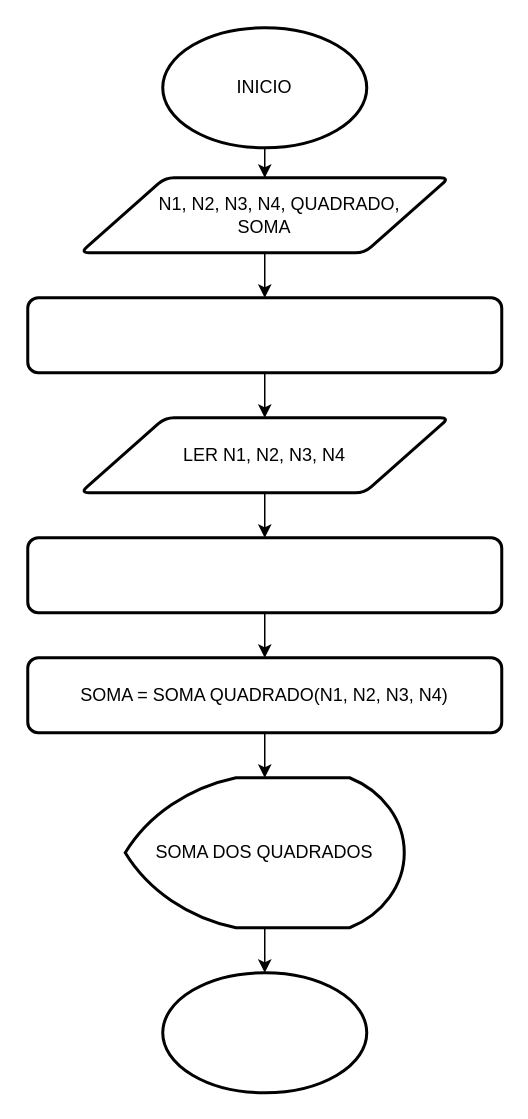
Some shapes in this 528 by 1119 pixel diagram are drawn without their labels. The shapes that lost their labels are listed below. From the top down, each one's centre as x and y in pixels, then its label:
At (x=264, y=335): "para(N = 0; N < 4; N + 1)".
At (x=264, y=575): "QUADRADO(N1, N2, N3, N4)".
At (x=264, y=1032): "FIM".
